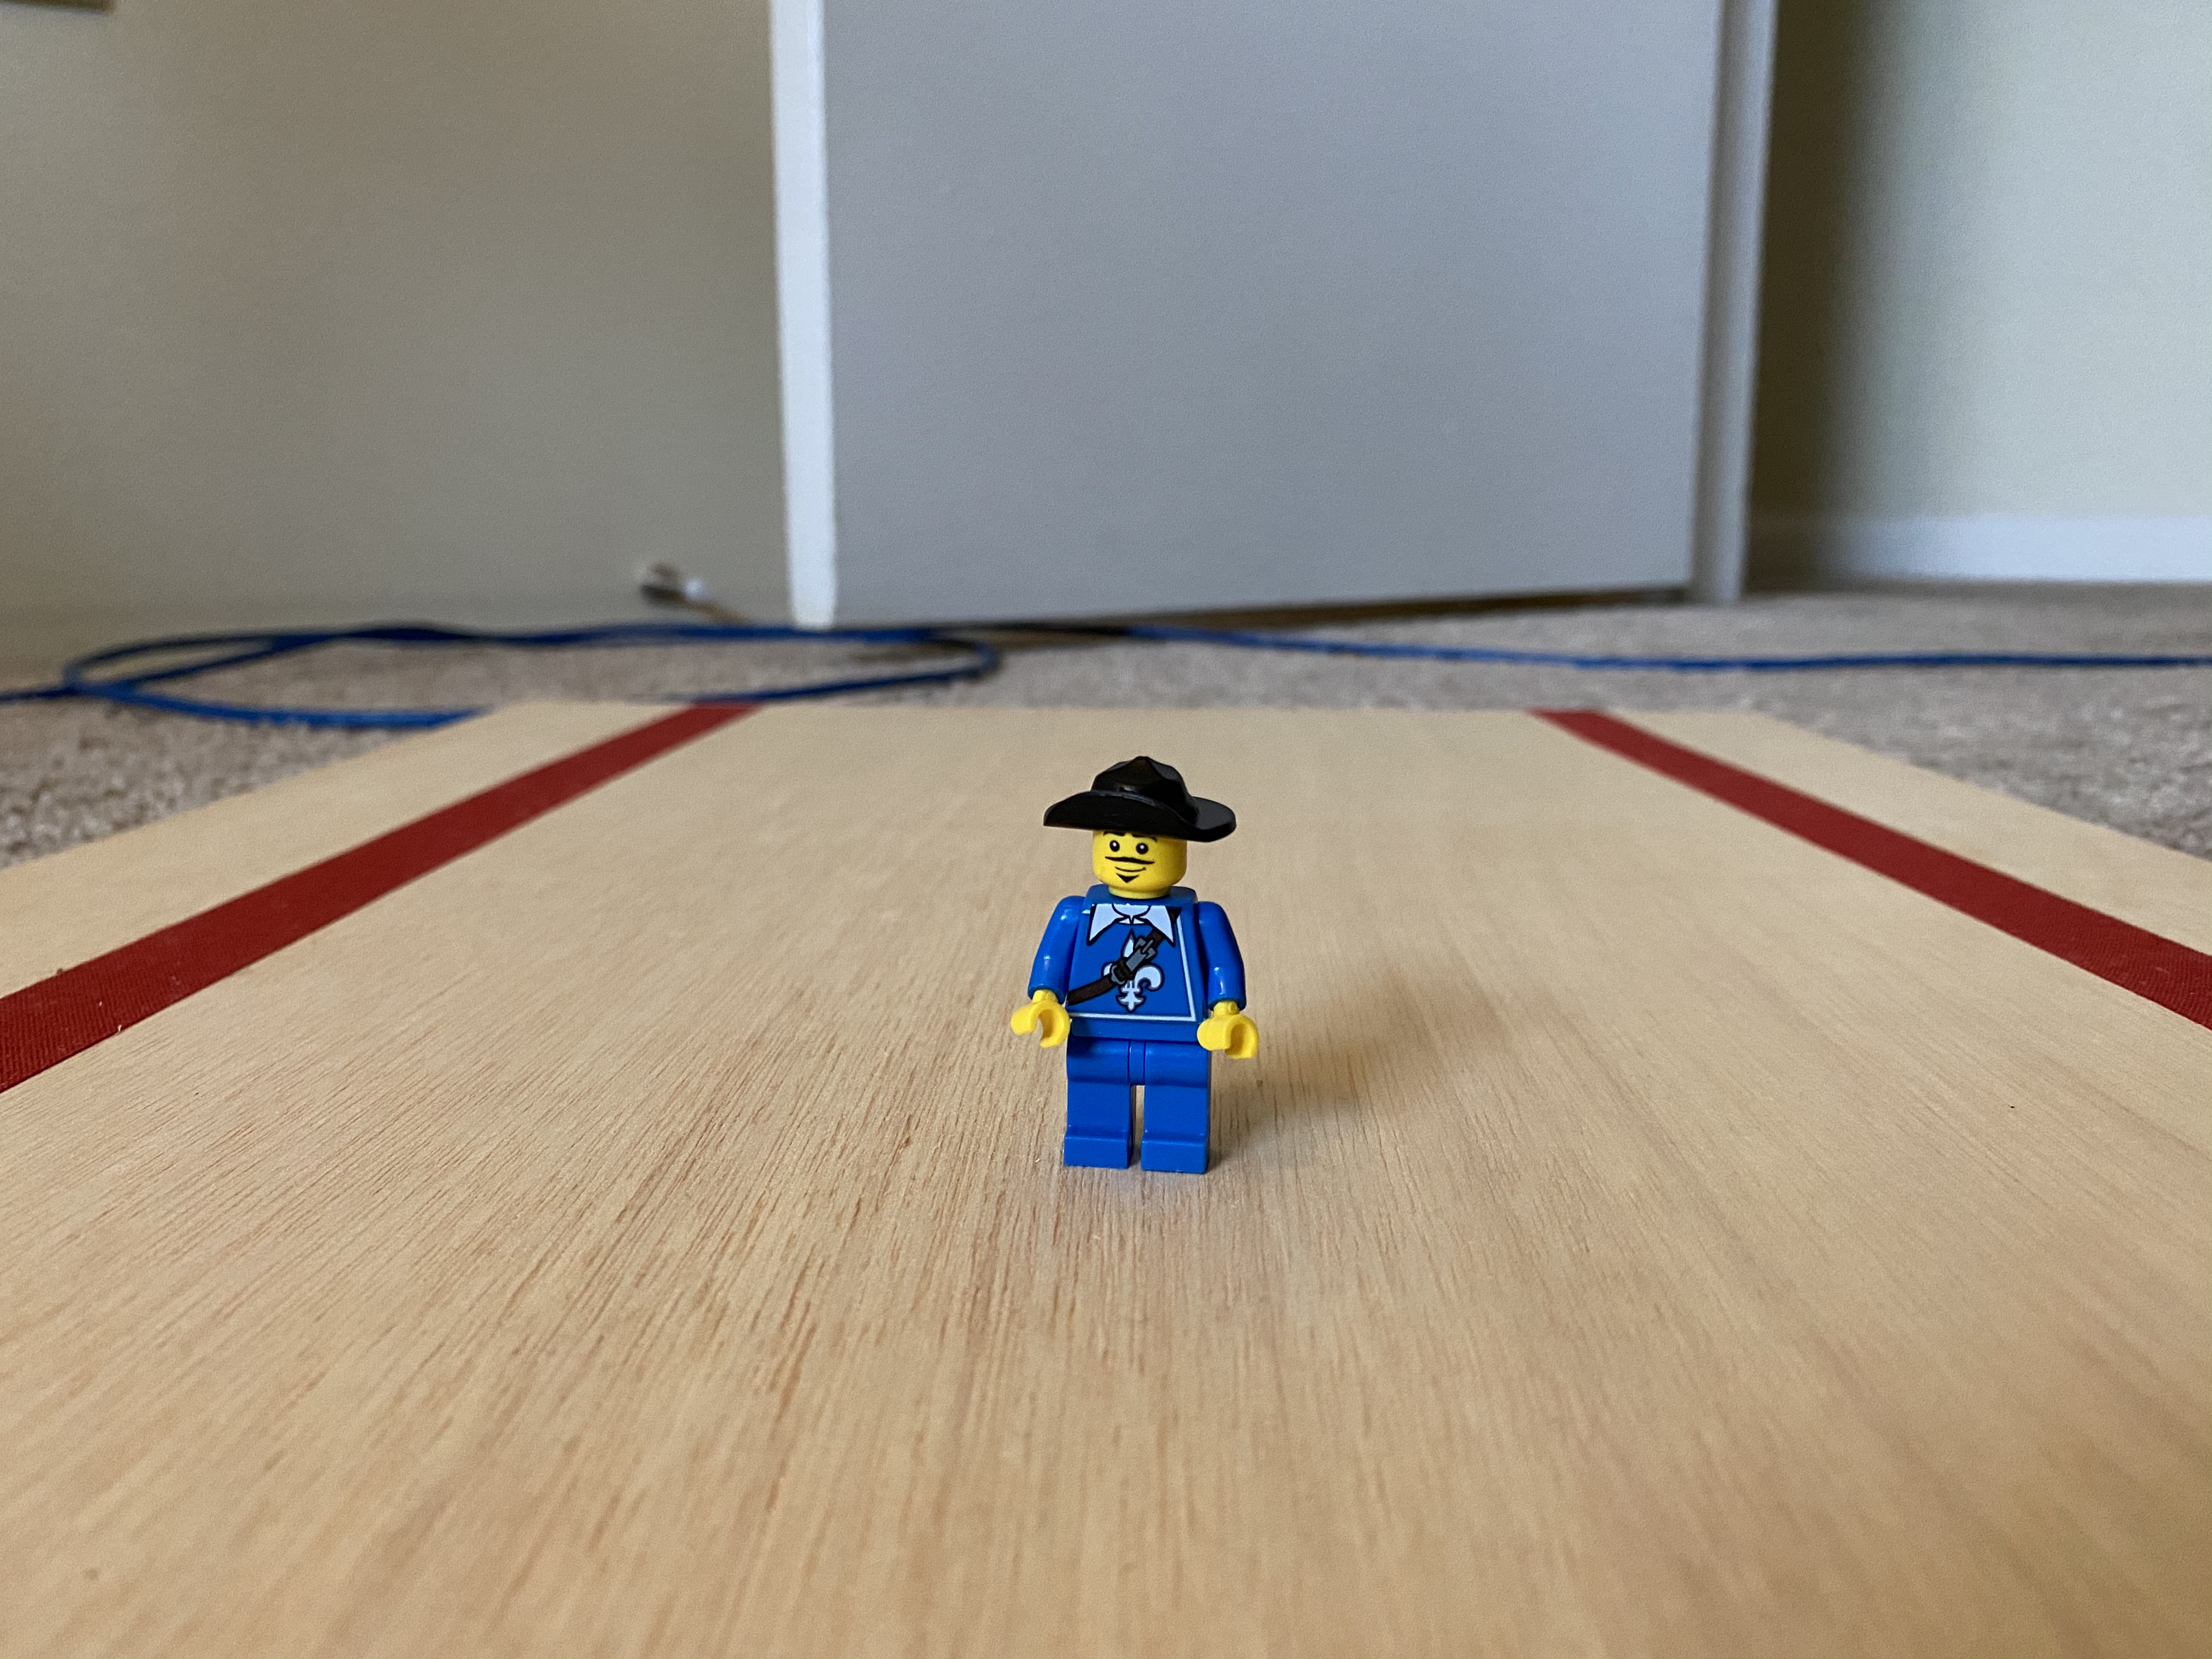Person: (1001, 729, 1302, 1186)
